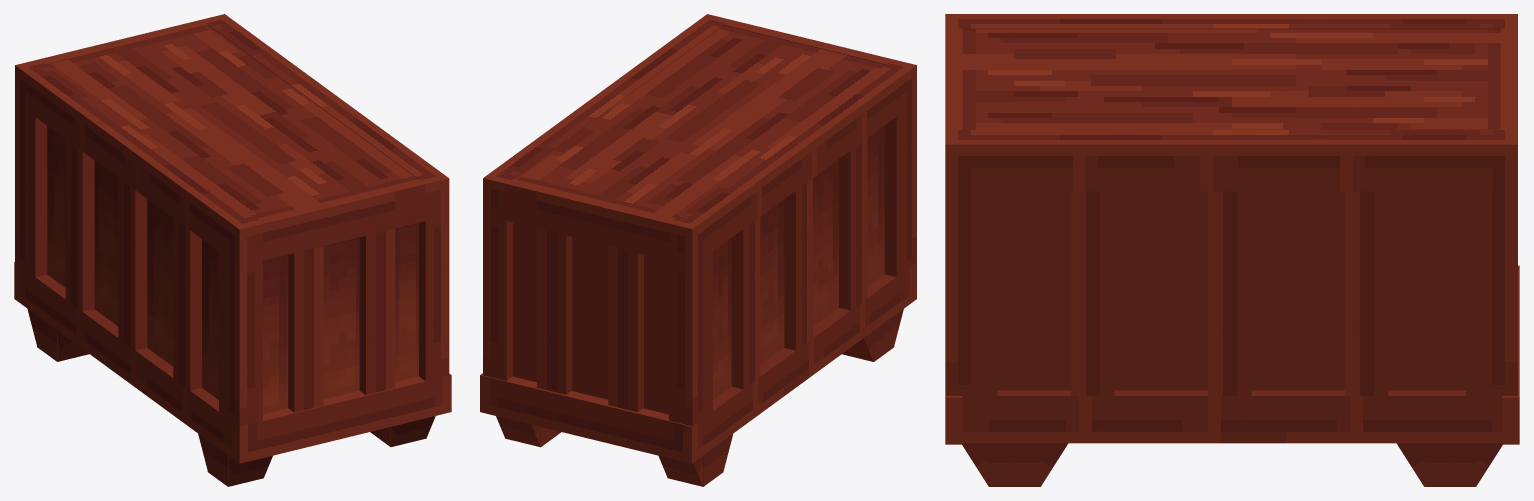
Rendered from container.gltf.
The picture shows the model from 3 angles, left to right: view 1: azimuth 30°, elevation 25°; view 2: azimuth 150°, elevation 25°; view 3: azimuth 270°, elevation 25°; orthographic projection. The views are drawn at different scales.
Parts seen in each view (by area): view 1: cube (×20); view 2: cube (×20); view 3: cube (×19).
Boxes of the visible parts, left/top/right/bottom form: cube (×20): left=15, top=14, right=451, bottom=486; cube (×20): left=480, top=14, right=916, bottom=486; cube (×19): left=945, top=14, right=1519, bottom=486.
Bounding box in the file's own units: 1.85 × 2.26 × 3.41.
1 material, 1 textured.
